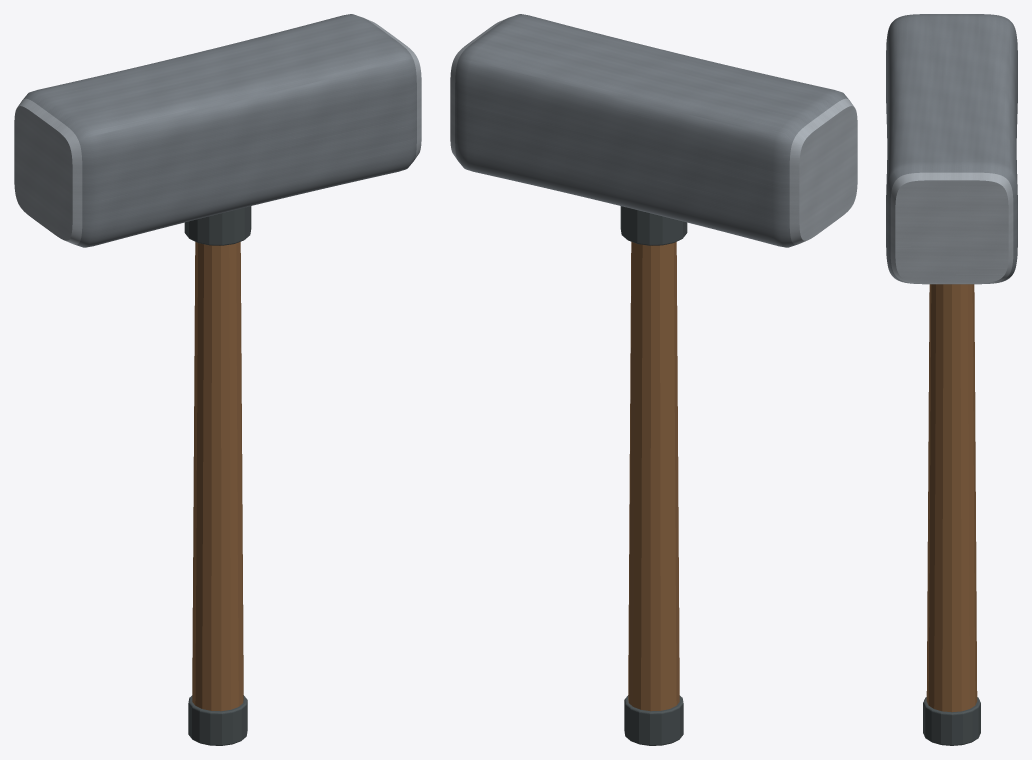
Rendered from Hammer.glb.
3 views of the same model, side by side, from view 1: azimuth 30°, elevation 25°; view 2: azimuth 150°, elevation 25°; view 3: azimuth 270°, elevation 25° (orthographic). The views are drawn at different scales.
Visible parts, largest first — view 1: Equipment.Hammer; view 2: Equipment.Hammer; view 3: Equipment.Hammer.
Part boxes in pixels (x1,y1,x2,y2): Equipment.Hammer: (14,14,421,745); Equipment.Hammer: (450,14,857,745); Equipment.Hammer: (886,14,1017,745).
Bounding box in the file's own units: 0.324 × 0.5896 × 0.1093.
Materials: 4 (2 with a texture image).
